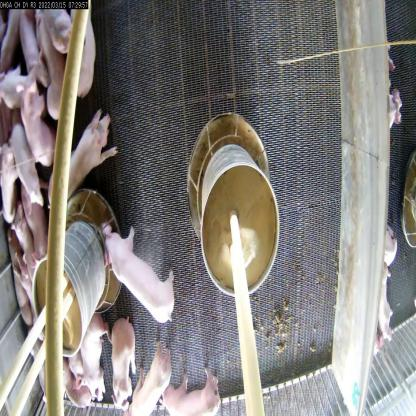Pig: (101, 213, 186, 325), (48, 104, 120, 210), (10, 65, 54, 178), (99, 316, 142, 414), (166, 372, 229, 416), (127, 352, 170, 415)
